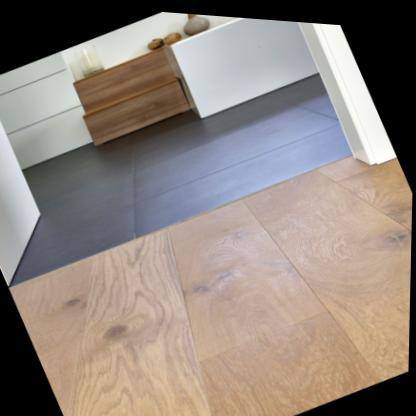Wooden floor: (11, 151, 413, 416)
